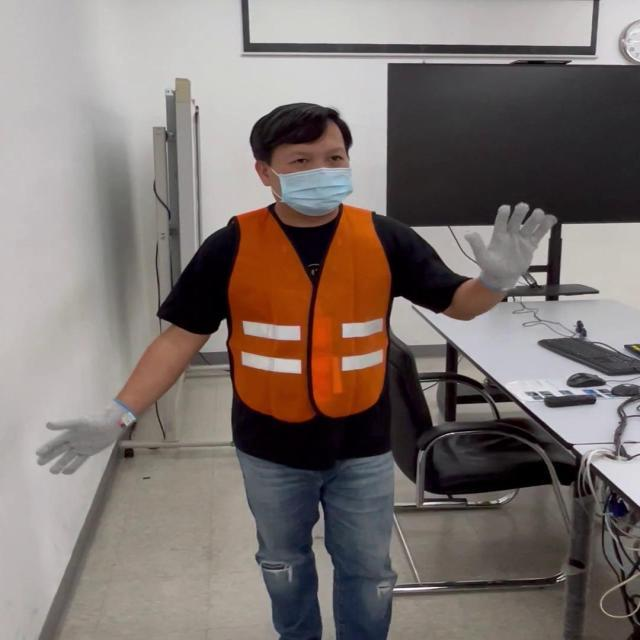gloved_hand: (456, 196, 558, 298)
